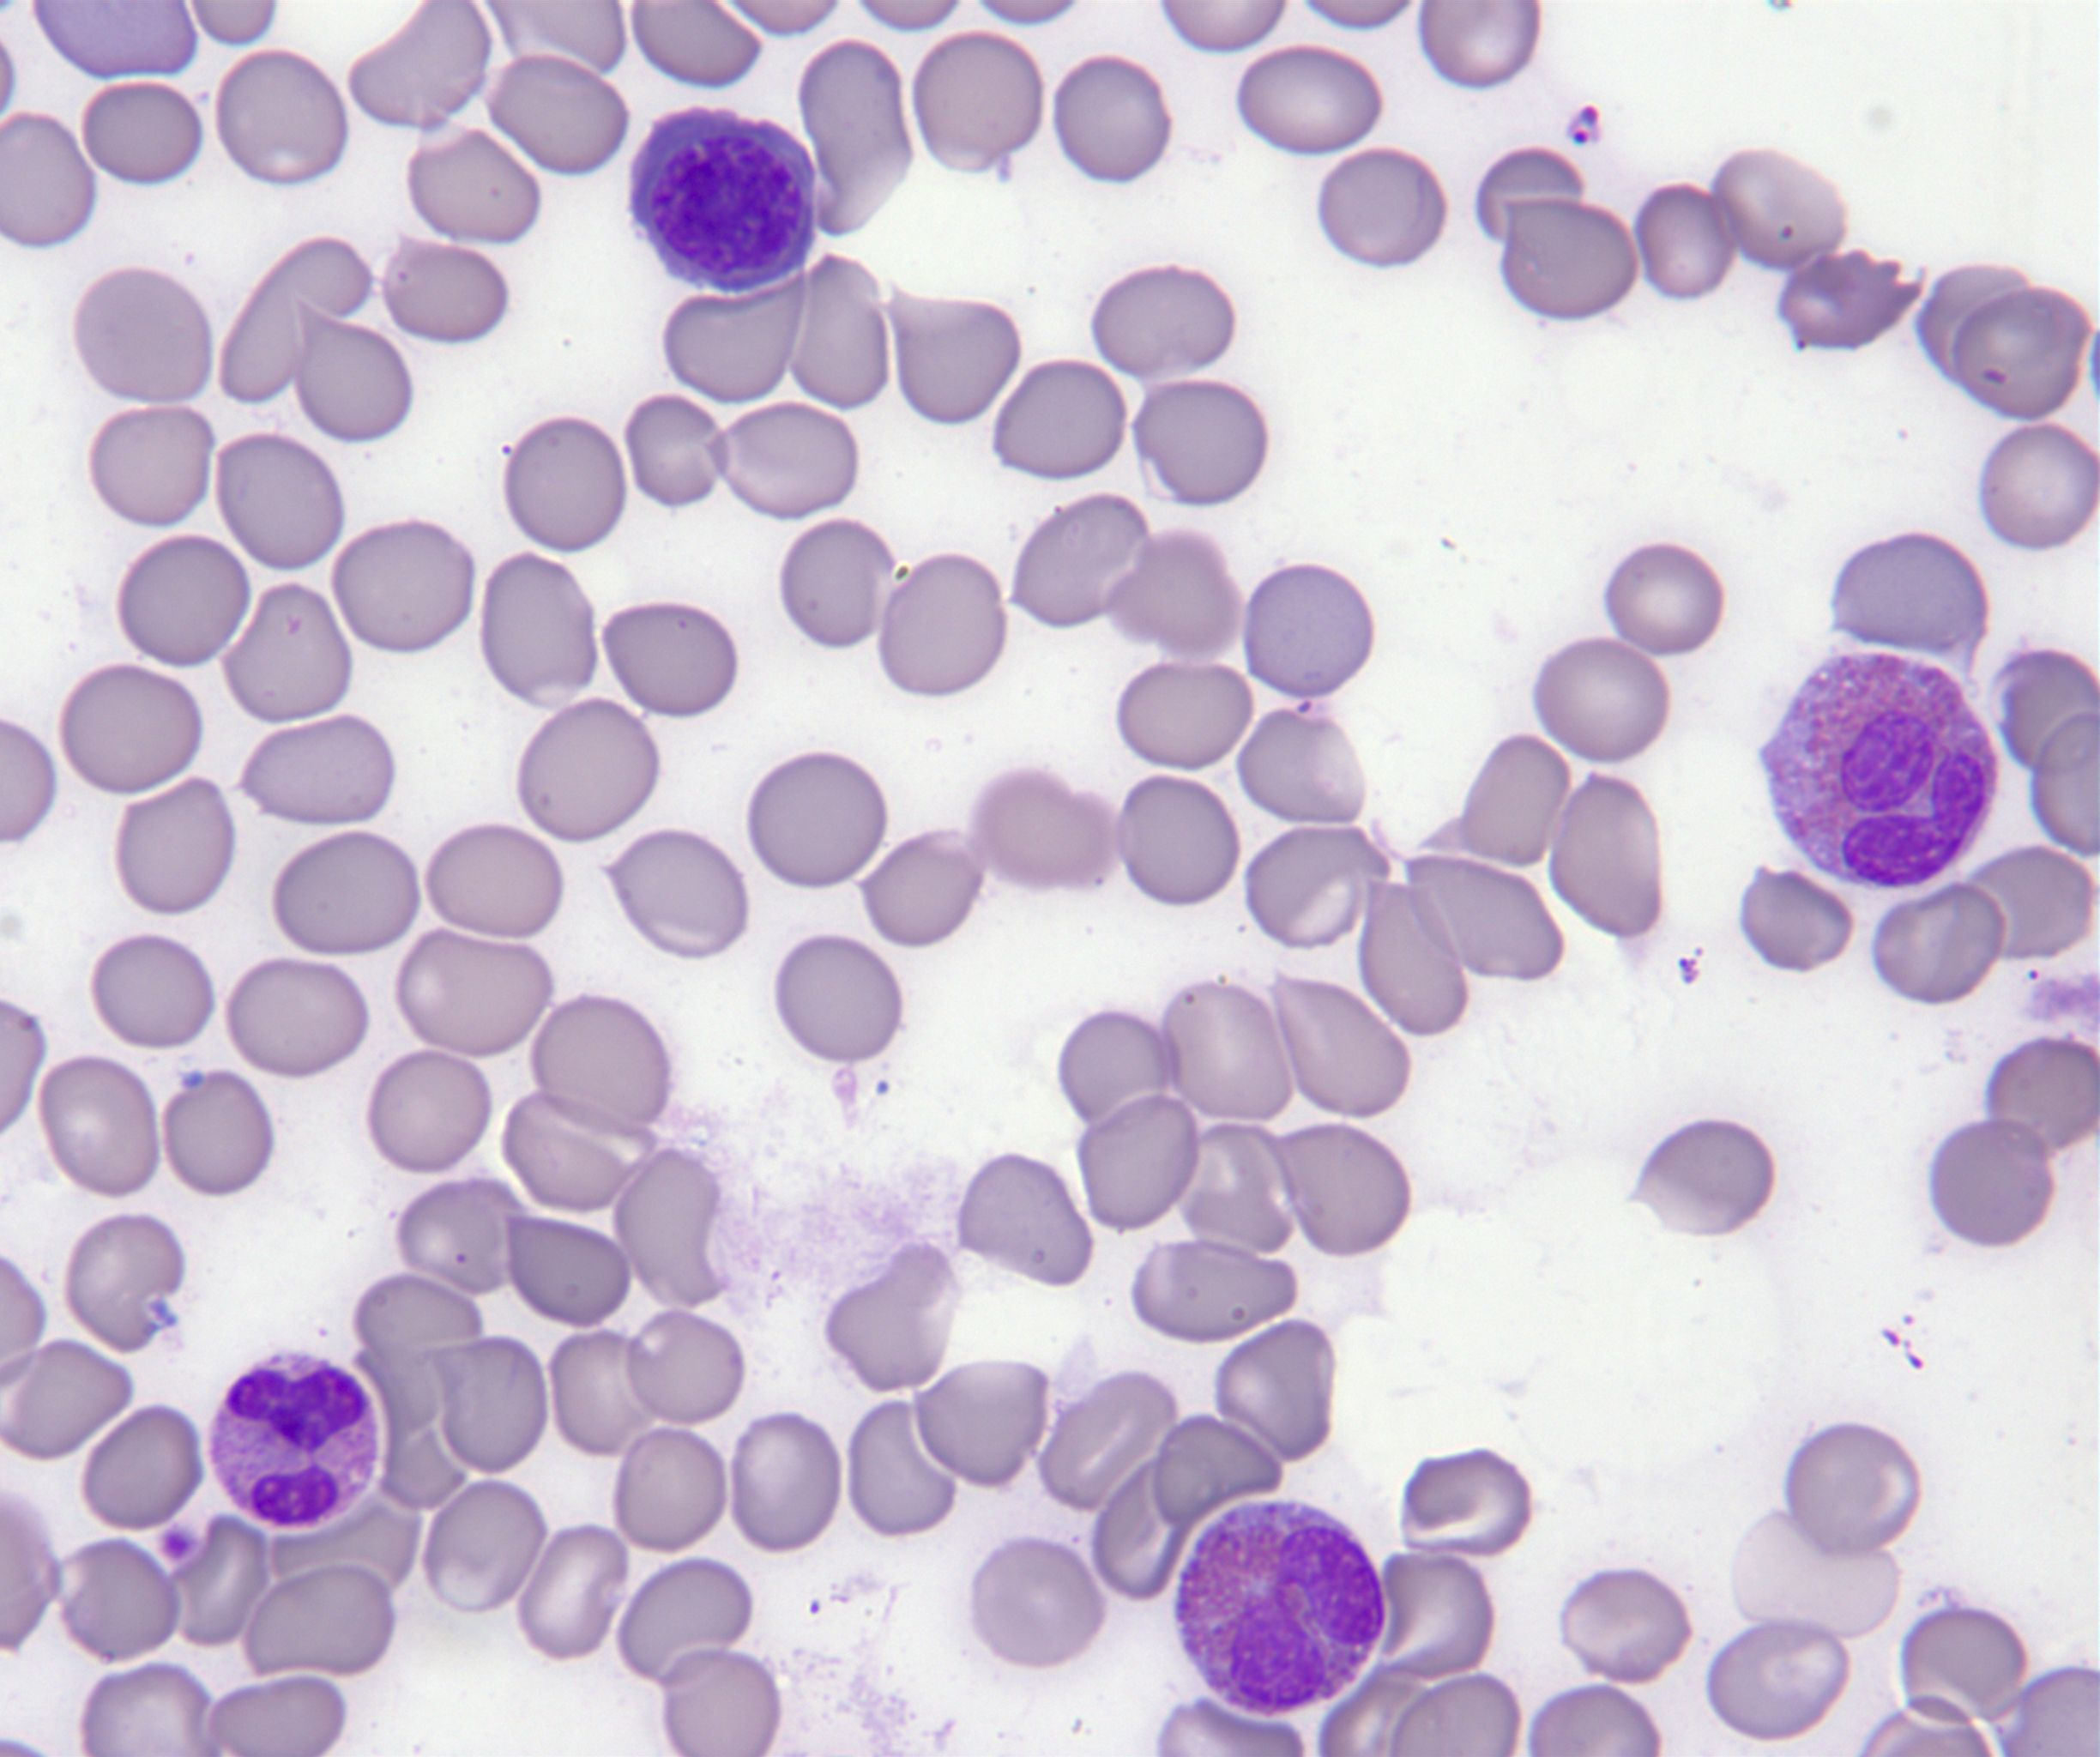23: (630, 110, 815, 284)
6: (206, 1347, 382, 1527)
E4: (1762, 644, 1997, 885), (1174, 1490, 1388, 1713)
